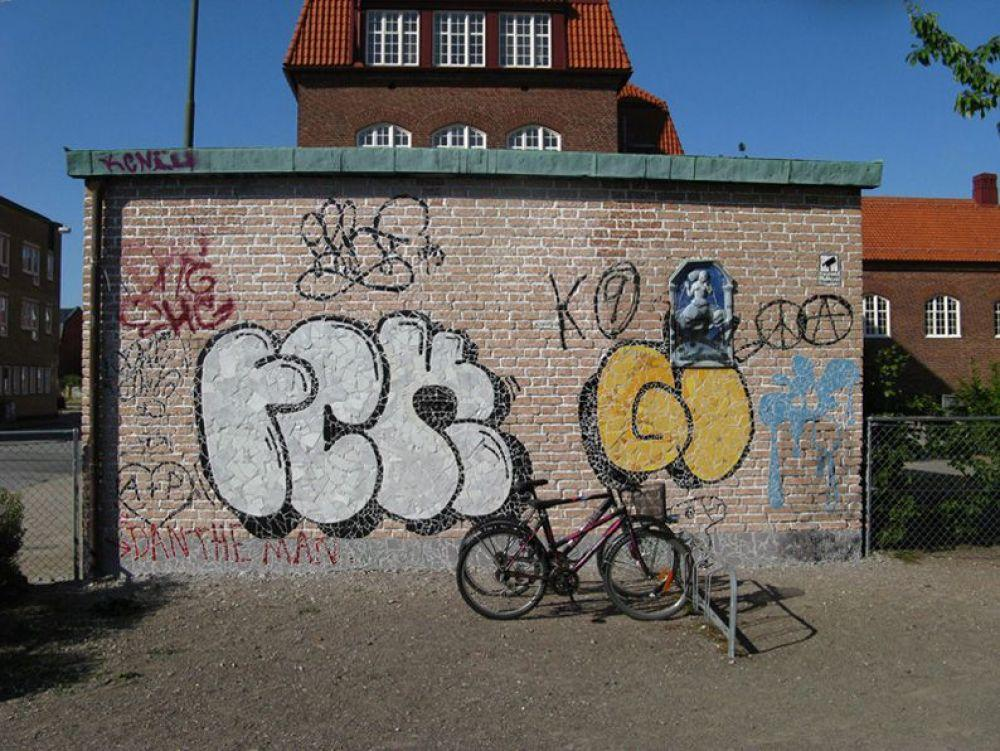graffiti: (197, 312, 529, 538), (289, 197, 452, 293), (76, 246, 229, 339), (118, 517, 366, 573), (539, 260, 657, 345), (90, 341, 193, 410), (95, 456, 200, 514), (753, 294, 837, 352), (97, 150, 206, 182)
